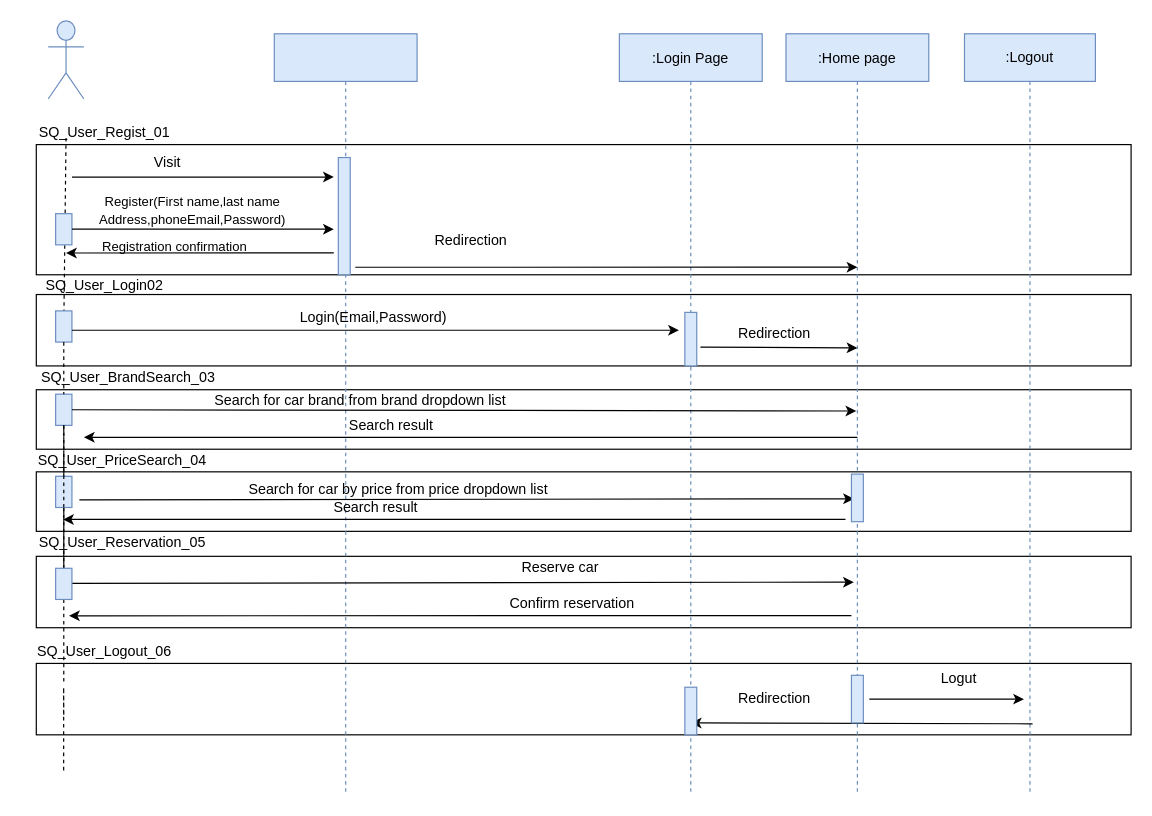
Image size: 1152x816. Some labels were removed from this diagram. The shapes that lost their labels are listed below. From the top down, each one's centre as x and y in pixels, then its label:
At pixel 65 59: "User".
At pixel 345 413: ":Registration Page".
